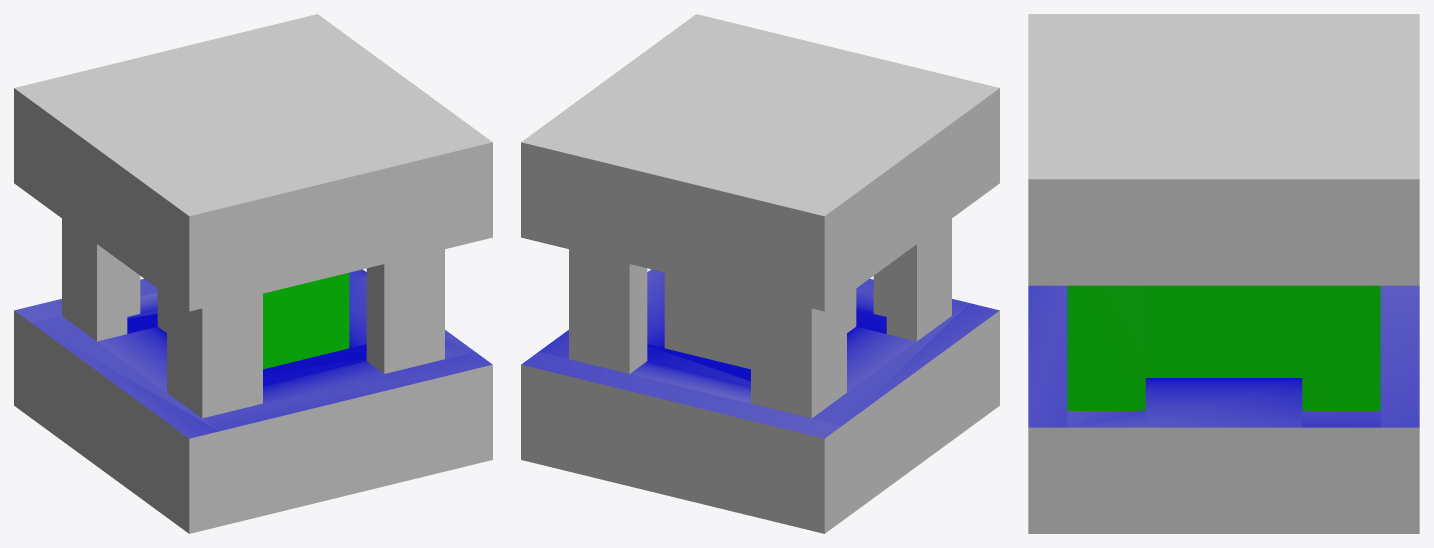
File: Tile_Puzzle_6.fbx
The picture shows the model from 3 angles, left to right: view 1: azimuth 30°, elevation 25°; view 2: azimuth 150°, elevation 25°; view 3: azimuth 270°, elevation 25°; orthographic projection. The views are drawn at different scales.
Visible parts, largest first — view 1: Tile_Puzzle_6; view 2: Tile_Puzzle_6; view 3: Tile_Puzzle_6.
Part boxes in pixels (left/top/right/bottom): Tile_Puzzle_6: left=14, top=14, right=492, bottom=533; Tile_Puzzle_6: left=521, top=14, right=999, bottom=533; Tile_Puzzle_6: left=1028, top=14, right=1419, bottom=533.
Bounding box in the file's own units: 200 × 200 × 200.
